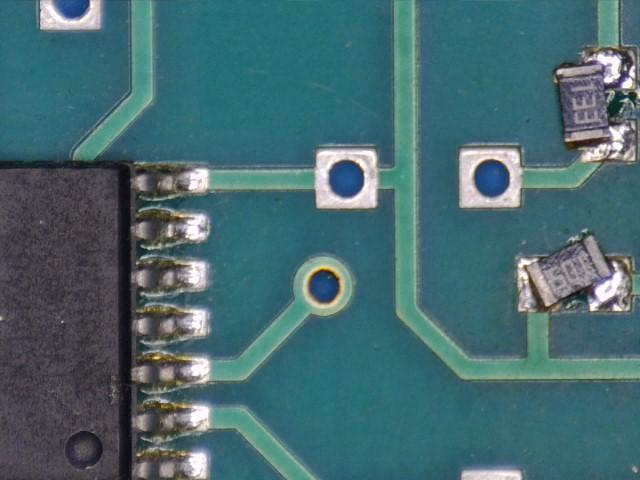Incorrect_installation: (553, 46, 639, 164), (517, 233, 632, 314)
